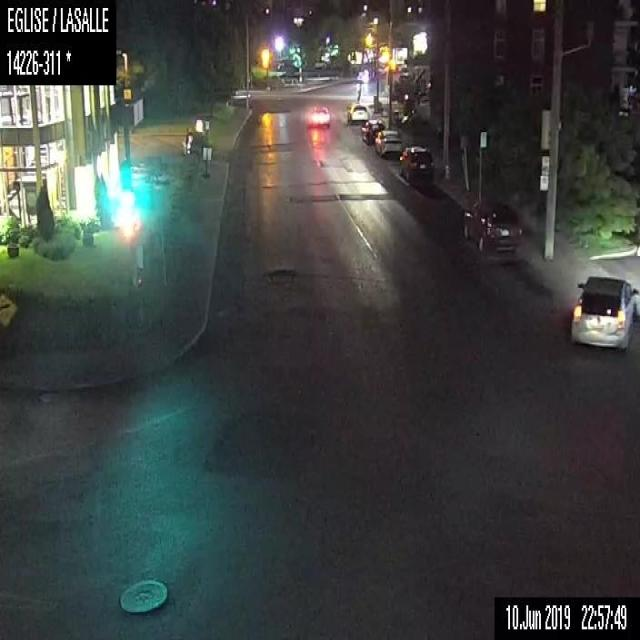vehicle: (567, 273, 639, 348), (462, 199, 522, 253), (397, 143, 436, 184), (373, 128, 403, 156), (360, 116, 386, 146), (345, 100, 369, 124), (307, 102, 329, 126)
